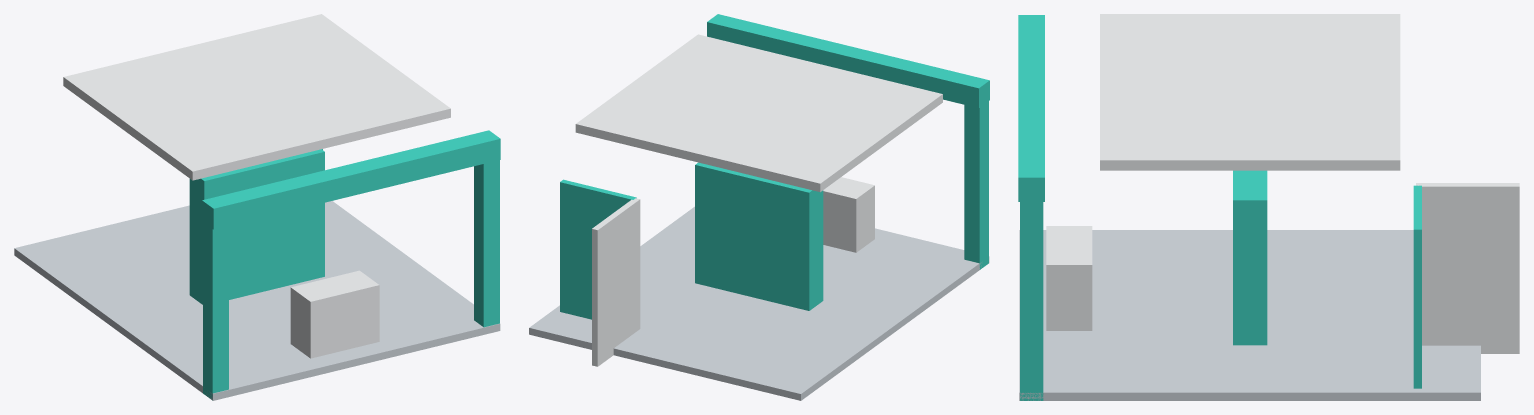
3 renders of one model, left to right at view 1: azimuth 30°, elevation 25°; view 2: azimuth 150°, elevation 25°; view 3: azimuth 270°, elevation 25°, orthographic. The views are drawn at different scales.
Parts seen in each view (by area): view 1: Exhibition Booth Concept; view 2: Exhibition Booth Concept; view 3: Exhibition Booth Concept.
Part boxes in pixels (left/top/right/bottom): Exhibition Booth Concept: left=14, top=14, right=500, bottom=400; Exhibition Booth Concept: left=529, top=14, right=989, bottom=400; Exhibition Booth Concept: left=1018, top=14, right=1519, bottom=400.
Bounding box in the file's own units: 5 × 3.34 × 6.52.
